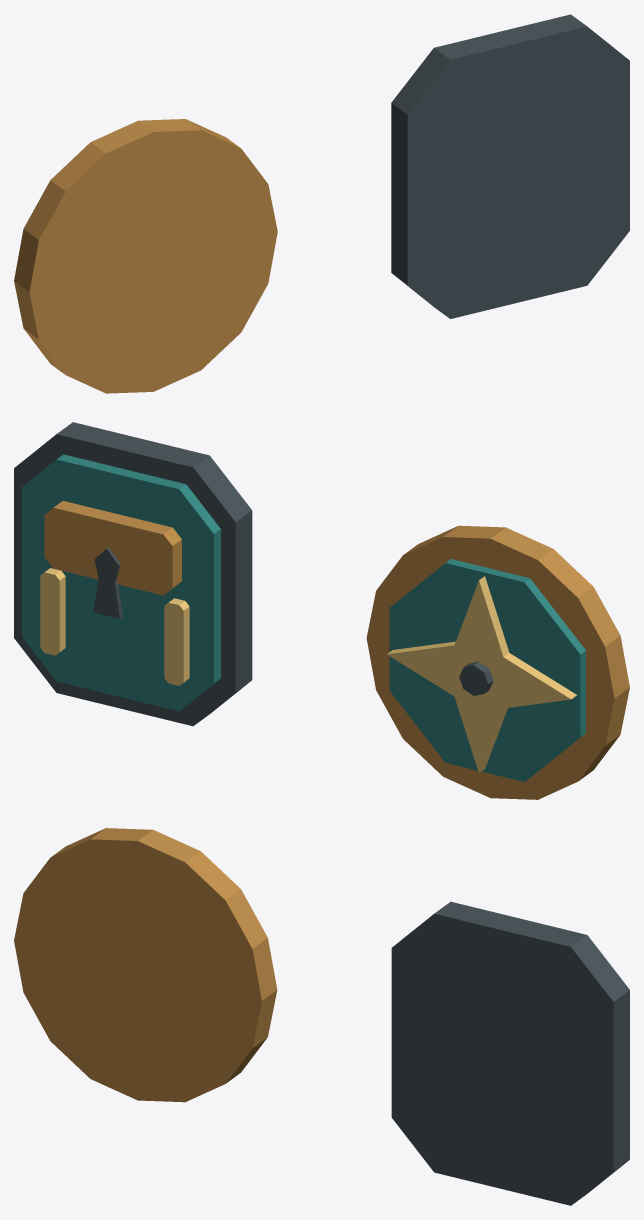
The model's file is cache-trophy-marks.glb.
3 views of the same model, one above another, from view 1: azimuth 30°, elevation 25°; view 2: azimuth 150°, elevation 25°; view 3: azimuth 330°, elevation 25° (orthographic).
Parts seen in each view (by area): view 1: Cache II · Relic plaque, Cache I · Compass medallion; view 2: Cache II · Relic plaque, Cache I · Compass medallion; view 3: Cache II · Relic plaque, Cache I · Compass medallion.
Part boxes in pixels (x1,y1,x2,y2): Cache II · Relic plaque: [391, 14, 629, 318]; Cache I · Compass medallion: [14, 119, 277, 393]; Cache II · Relic plaque: [14, 422, 252, 726]; Cache I · Compass medallion: [366, 525, 629, 799]; Cache II · Relic plaque: [391, 901, 629, 1205]; Cache I · Compass medallion: [14, 828, 277, 1102].
Size of the model in its own units: 0.9865 by 0.408 by 0.099.
